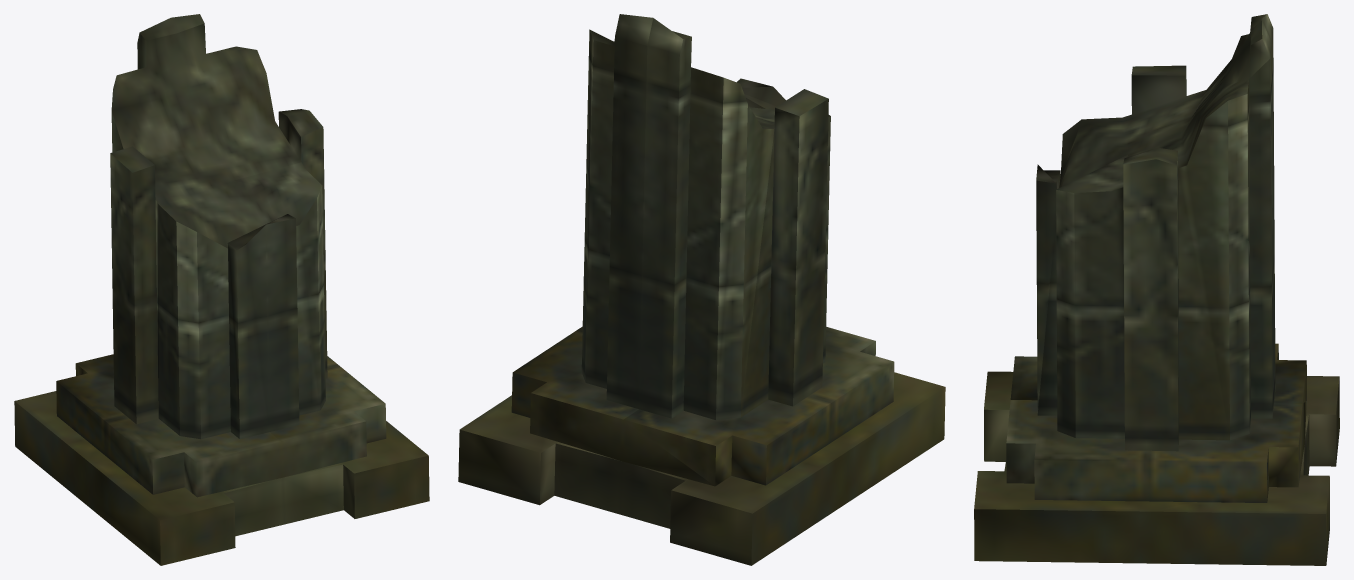
Rendered from fxmg_lizhu_old3.FBX.
3 views of the same model, side by side, from view 1: azimuth 30°, elevation 25°; view 2: azimuth 150°, elevation 25°; view 3: azimuth 270°, elevation 25° (orthographic). The views are drawn at different scales.
Parts seen in each view (by area): view 1: KLMSM_lizhu_old3; view 2: KLMSM_lizhu_old3; view 3: KLMSM_lizhu_old3.
Part boxes in pixels (left/top/right/bottom): KLMSM_lizhu_old3: left=14, top=14, right=429, bottom=565; KLMSM_lizhu_old3: left=458, top=14, right=945, bottom=565; KLMSM_lizhu_old3: left=974, top=14, right=1339, bottom=565.
Bounding box in the file's own units: 98.2 × 145 × 101.
